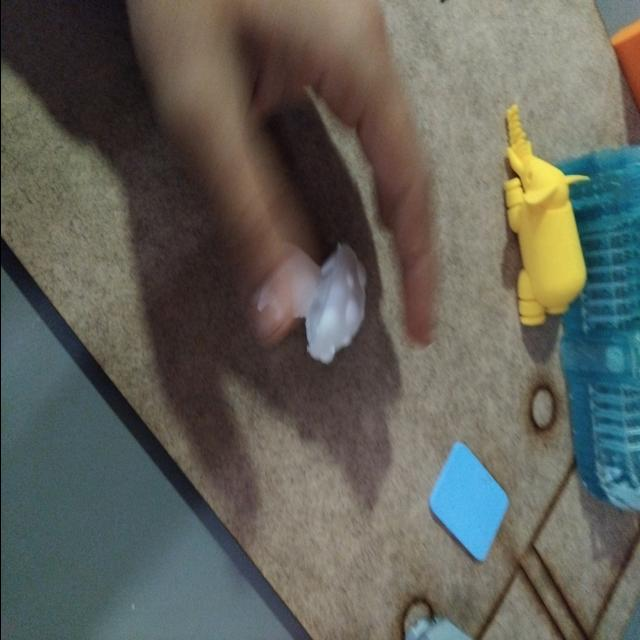Hongo: (296, 230, 381, 380)
